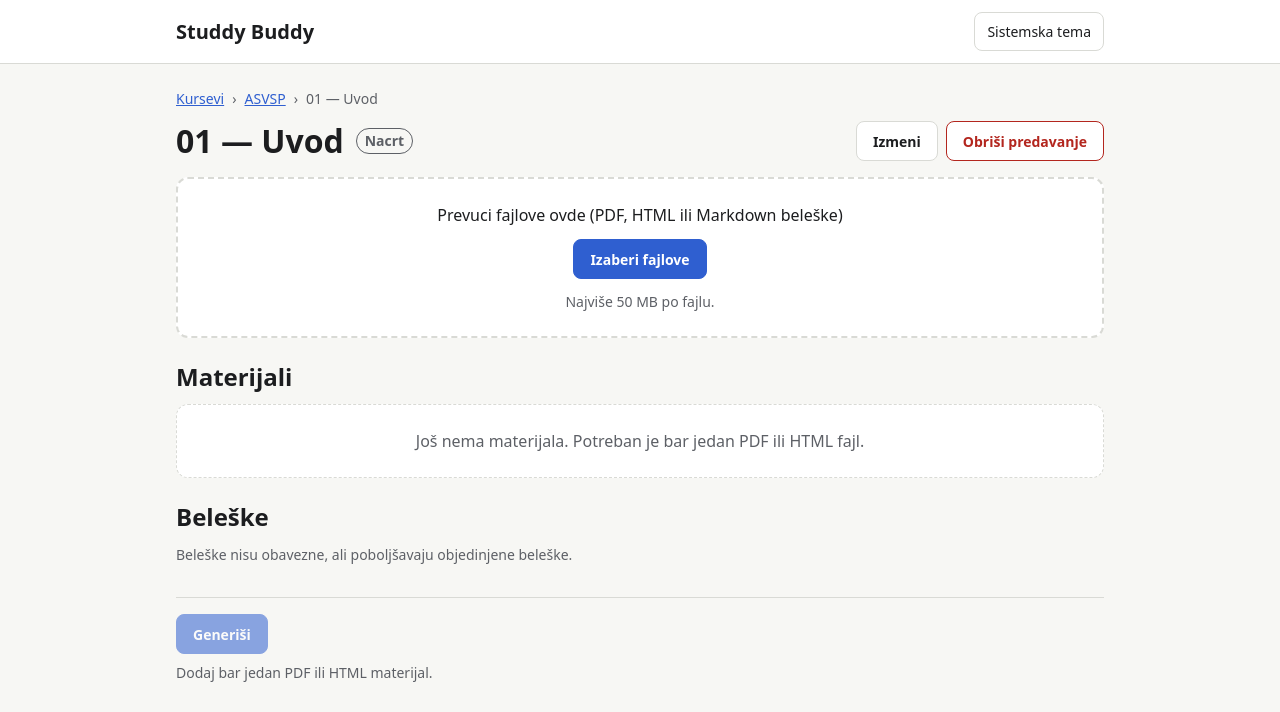
it: ClassPage › renames the class and deletes it after confirming
The image size is (1280, 712).
Click the button "Izmeni" at [897, 141], box [856,121,938,161]
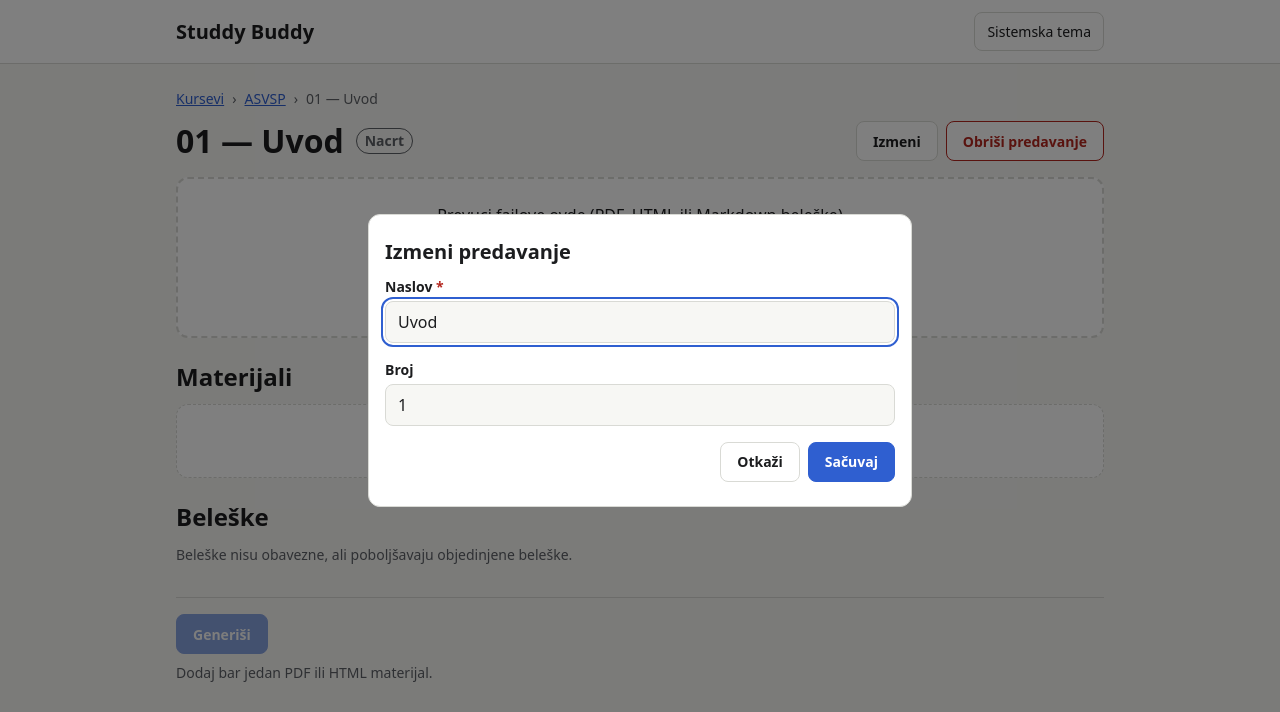
Now the field labelled "Naslov *" holds "Uvod"
Now the number field labelled "Broj" holds "1", box [385,384,895,426]
Replace the text in the field labelled "Naslov *" with "Novi naslov" at [640, 322], box [385,300,895,342]
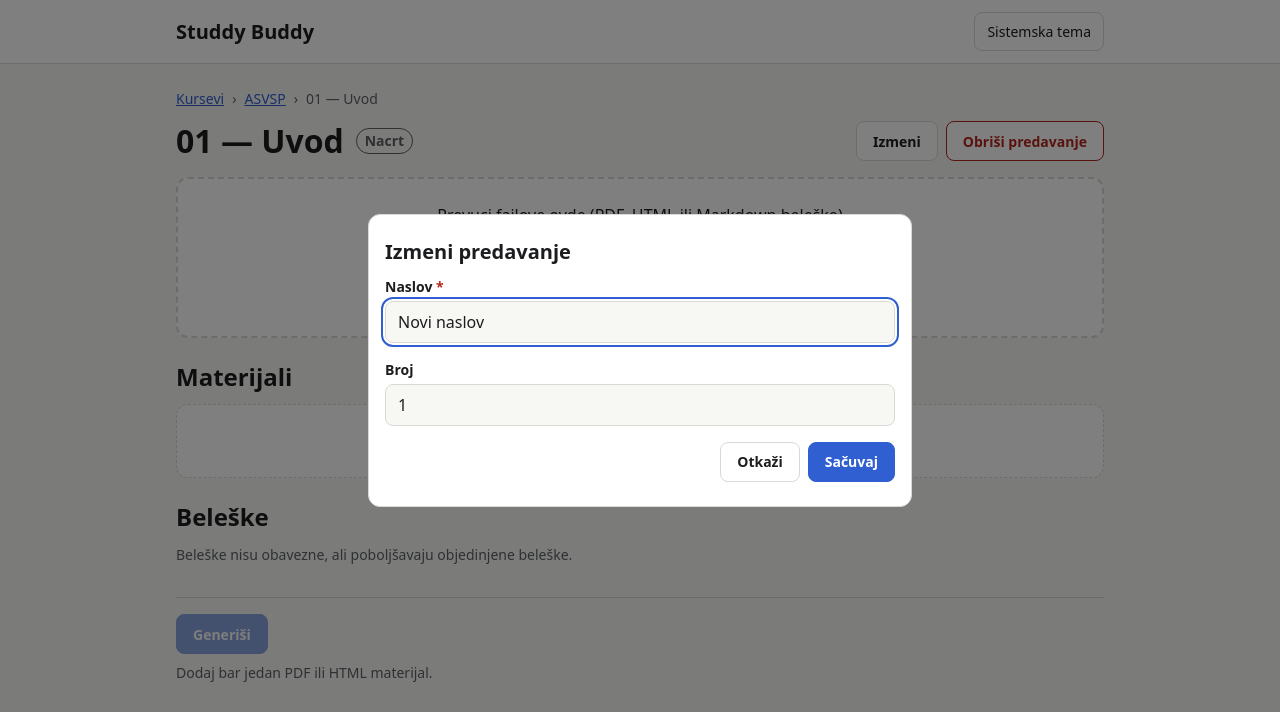
Click the button "Sačuvaj" at [851, 462], box [808,442,895,482]
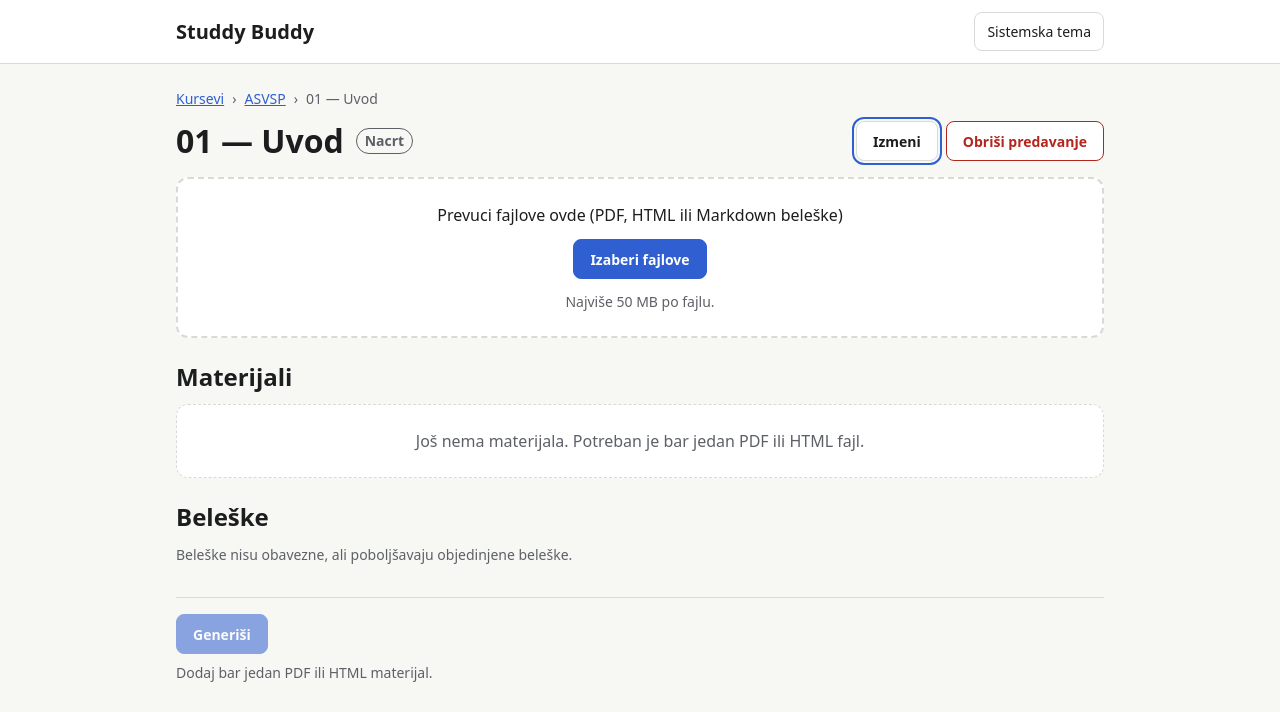
Click the button "Obriši predavanje" at [1025, 141], box [946,121,1104,161]
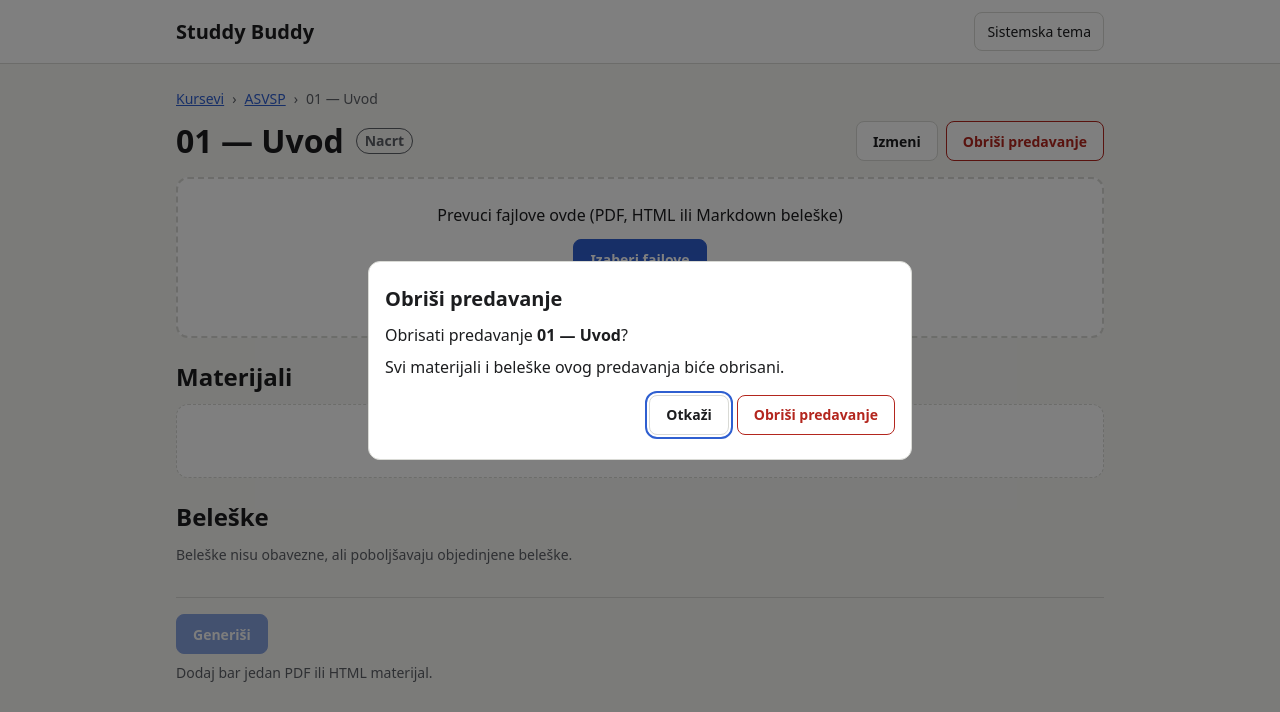
Click the button "Obriši predavanje" at [816, 414], box [737,394,895,434]
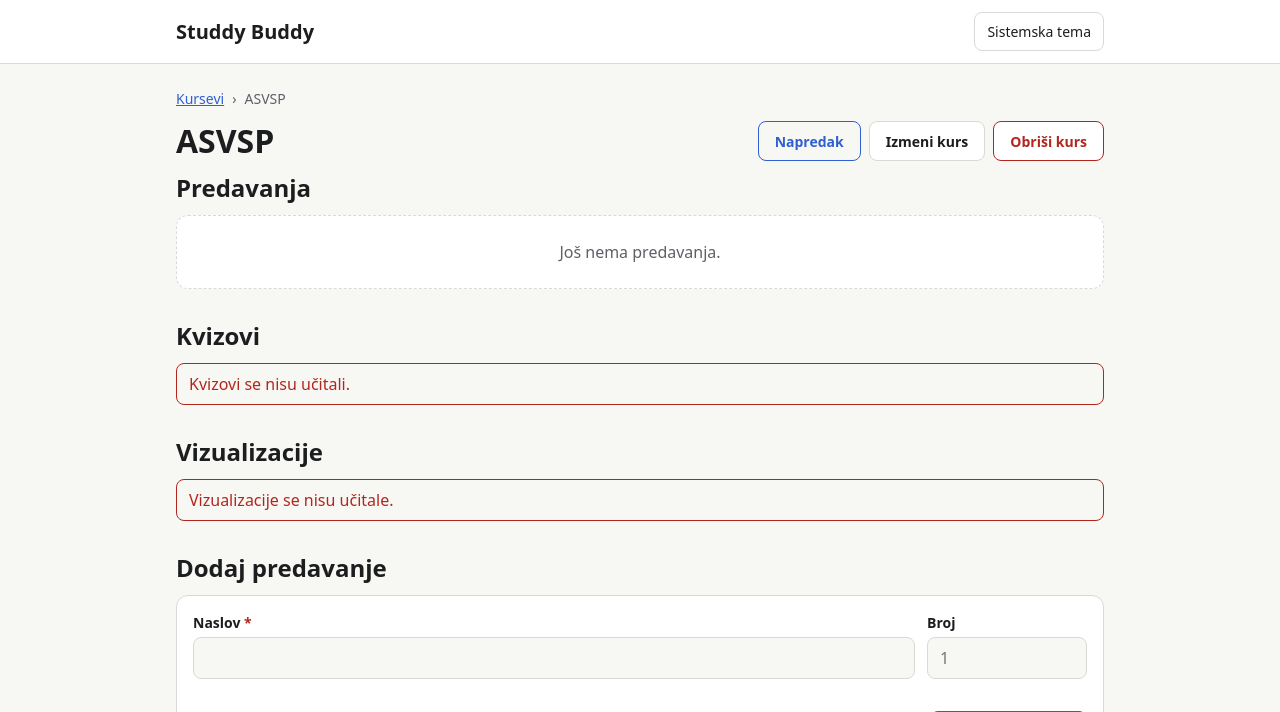
Now the heading "ASVSP" is shown, box [176,121,274,161]
